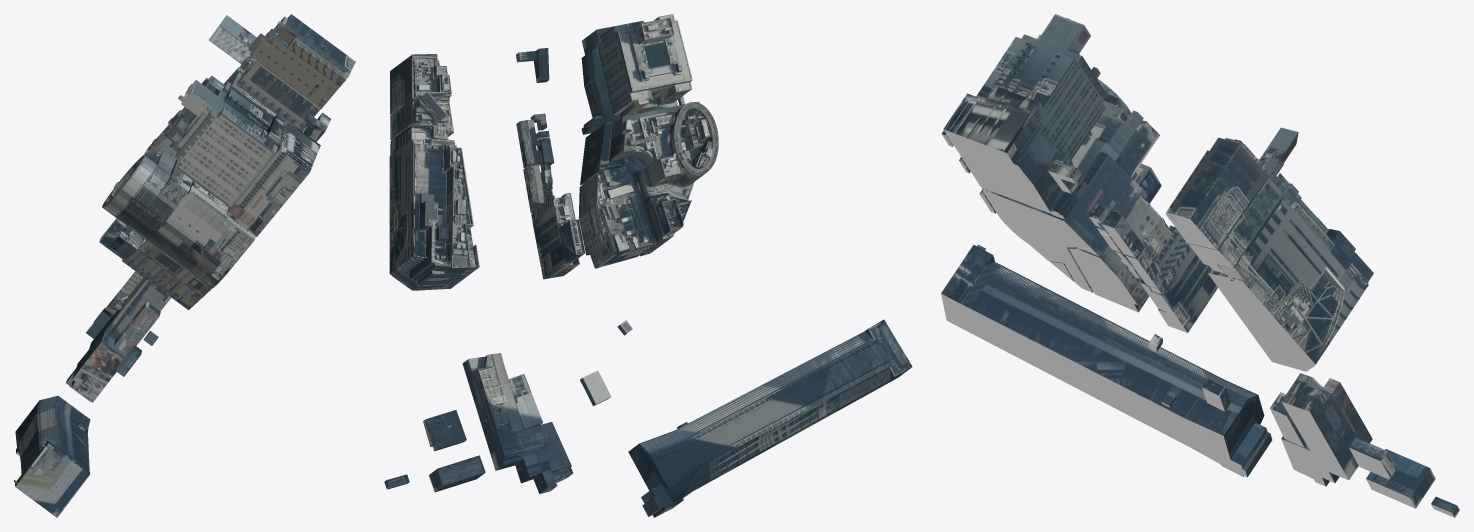
Rendered from l2_data503.glb.
3 renders of one model, left to right at view 1: azimuth 30°, elevation 25°; view 2: azimuth 150°, elevation 25°; view 3: azimuth 270°, elevation 25°, orthographic. The views are drawn at different scales.
Bounding box in the file's own units: 195 × 184 × 173.
2 materials, 1 textured.
